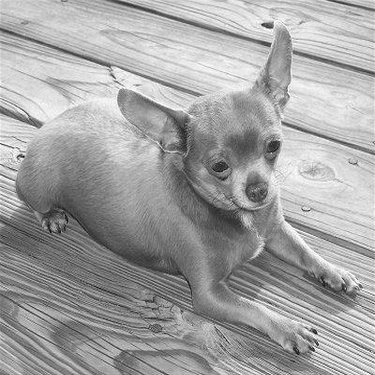dog: (14, 17, 364, 355)
